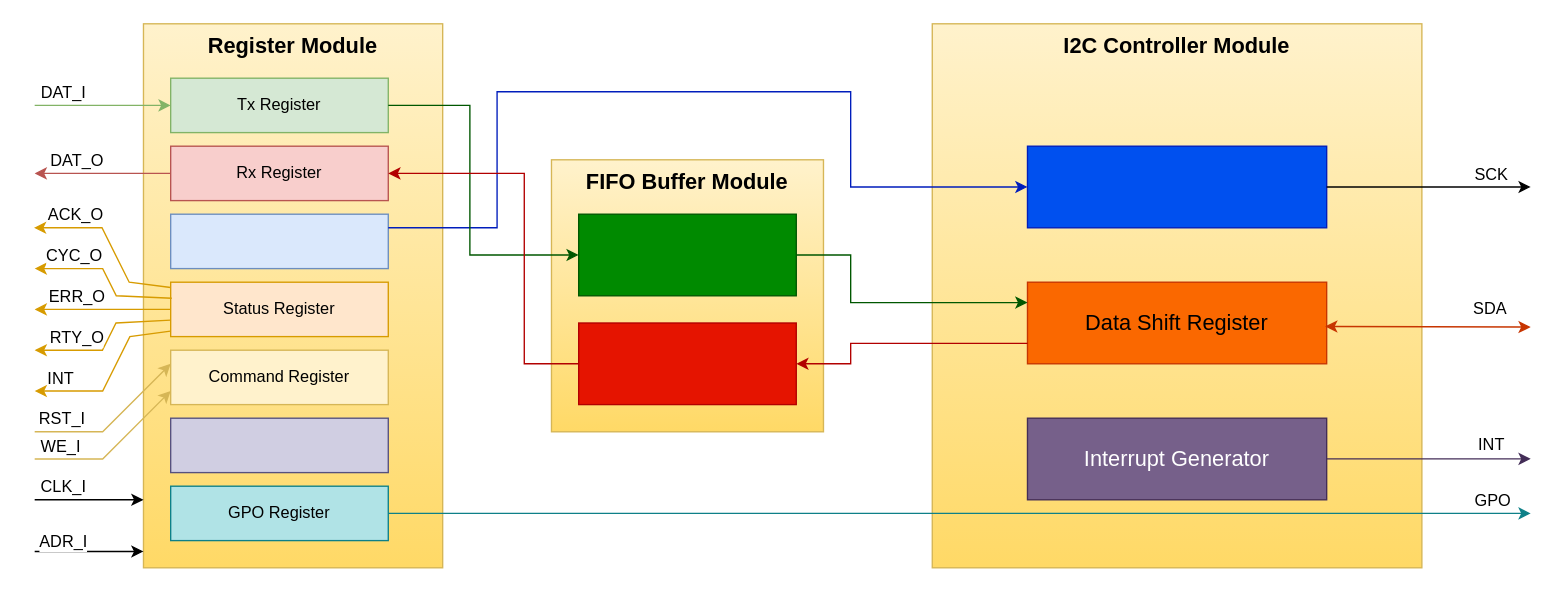
This 1567x592 diagram has some shape labels left out. The shapes that lost their labels are listed below. From the top down, each one's centre as x and y in pixels, then its label:
At point (1176, 186): "Clock Generator".
At point (278, 241): "Control Register".
At point (686, 254): "Tx FIFO Buffer".
At point (686, 363): "Rx FIFO Buffer".
At point (278, 445): "Slave Address Register".
